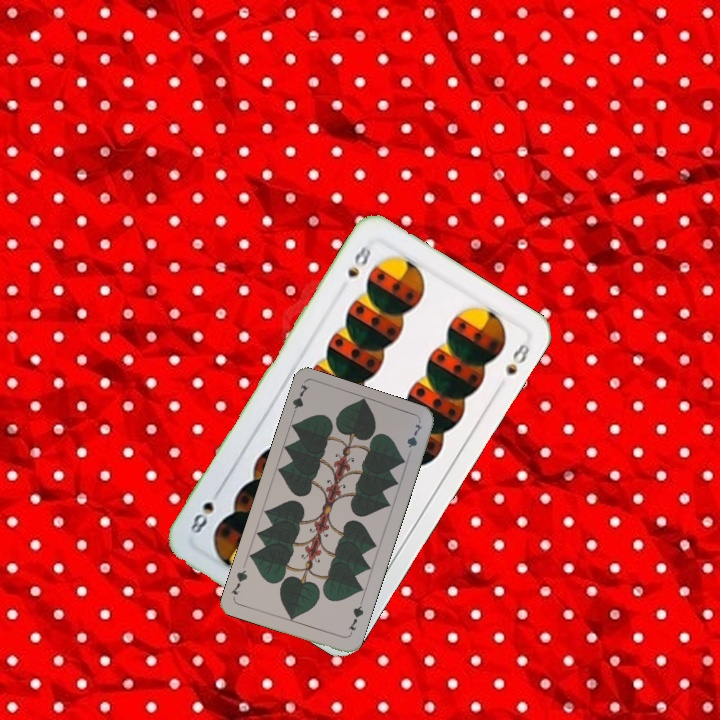G7: (287, 381, 311, 421), (344, 599, 366, 638)
S8: (343, 236, 374, 280)
